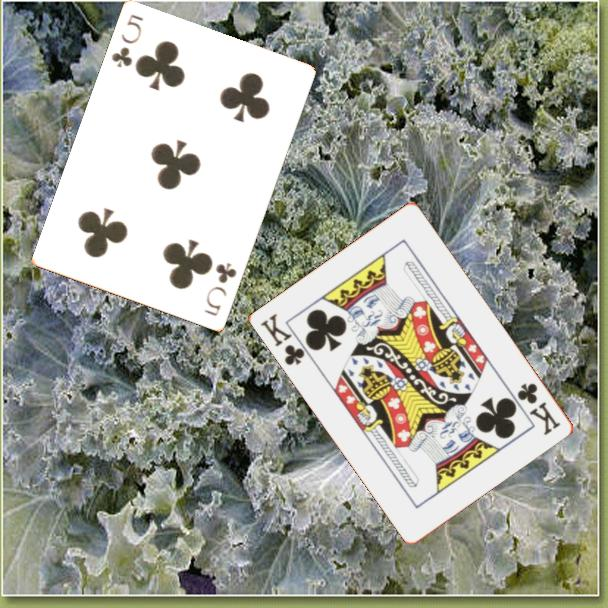c05: (201, 260, 240, 320), (108, 11, 146, 71)
c13: (257, 310, 308, 369), (514, 379, 564, 438)
